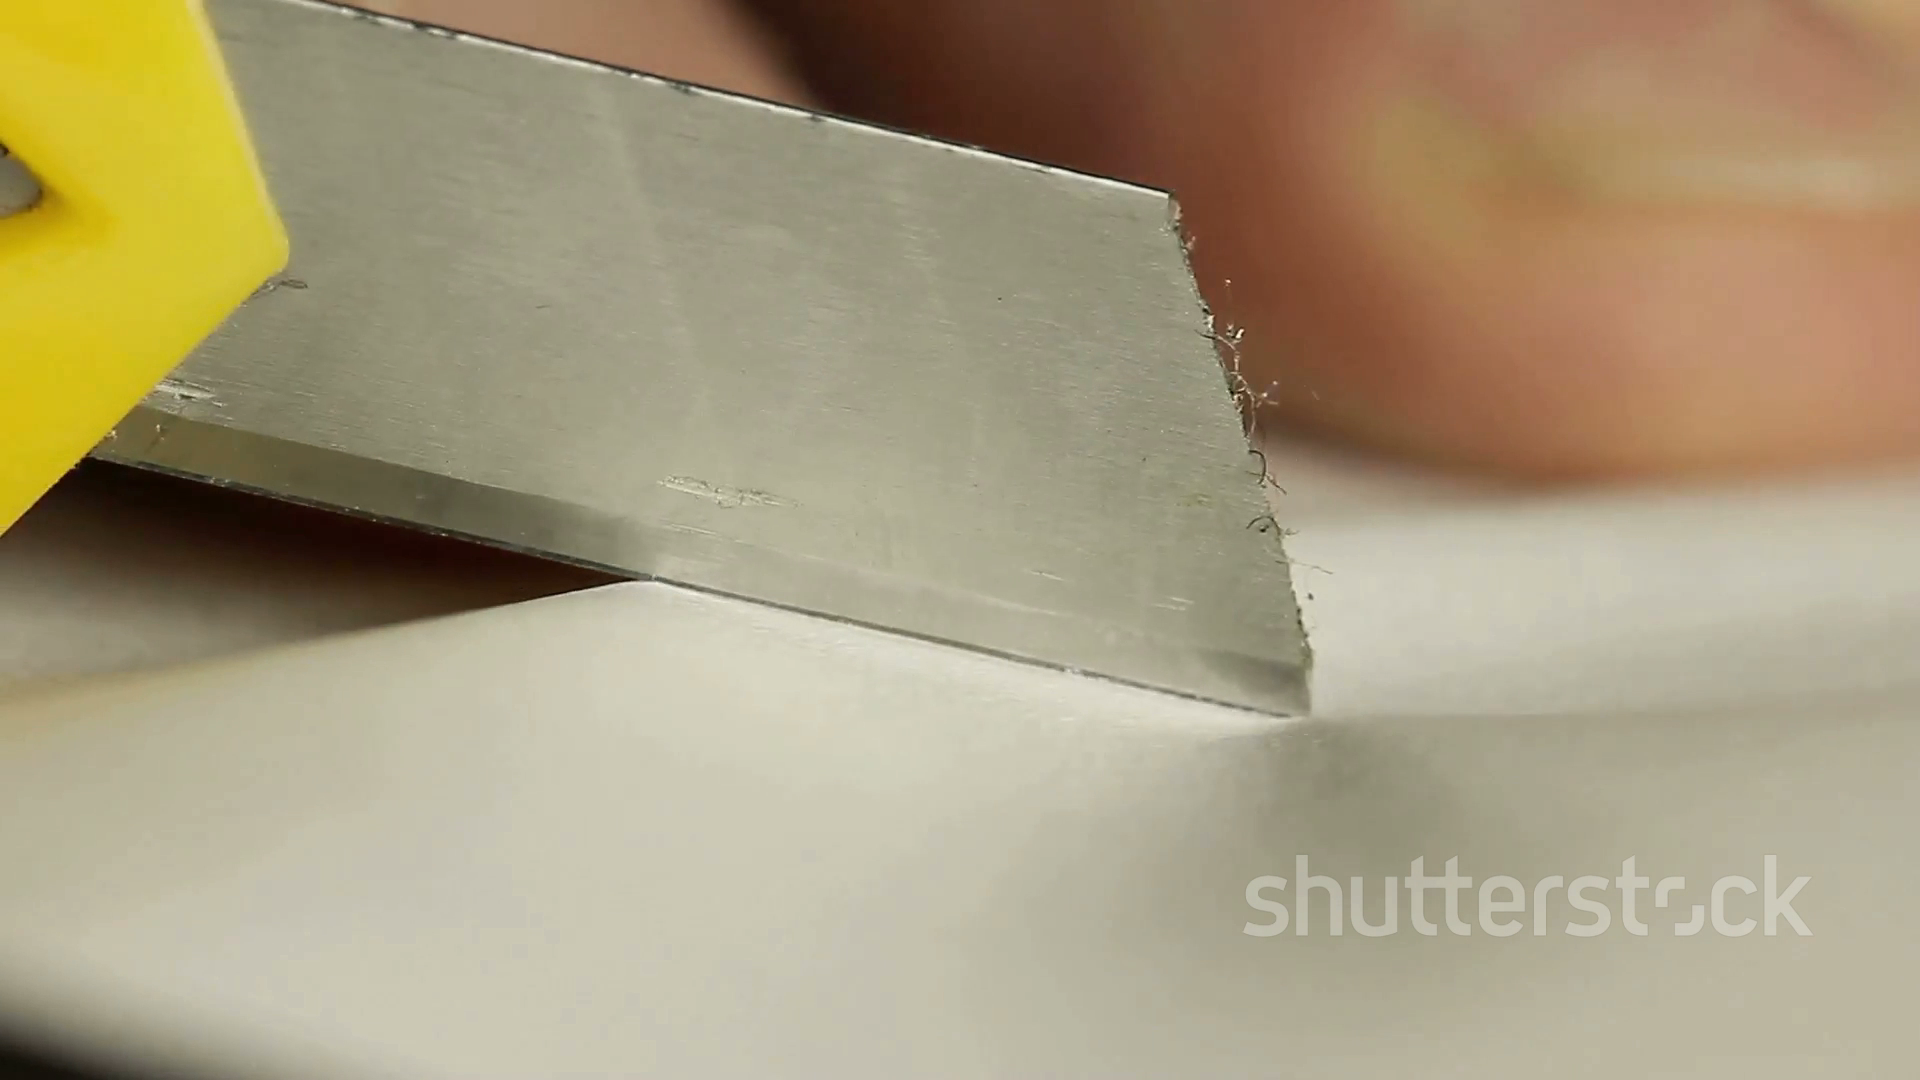cortante: (91, 0, 1312, 721)
